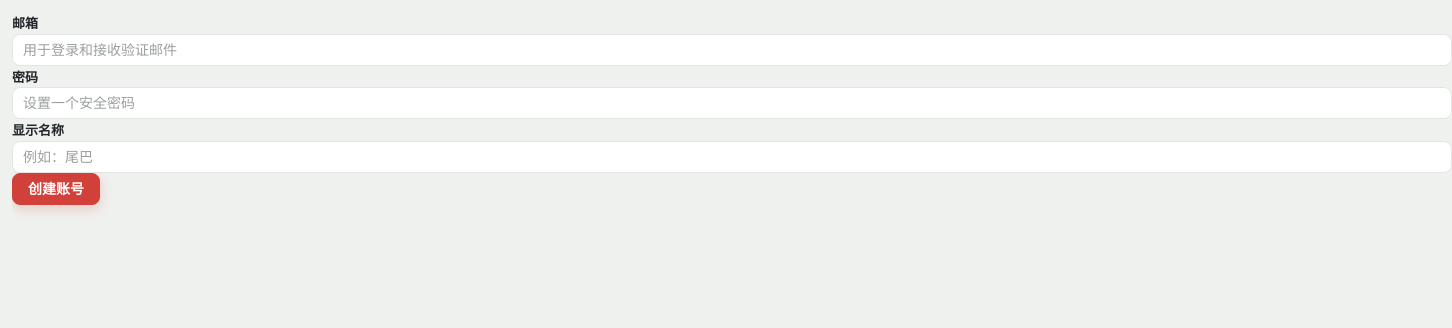
Test: RegisterForm › shows email field errors returned by the server
Type "invalid" into the field named "email" at (732, 50), box [23, 35, 1441, 65]
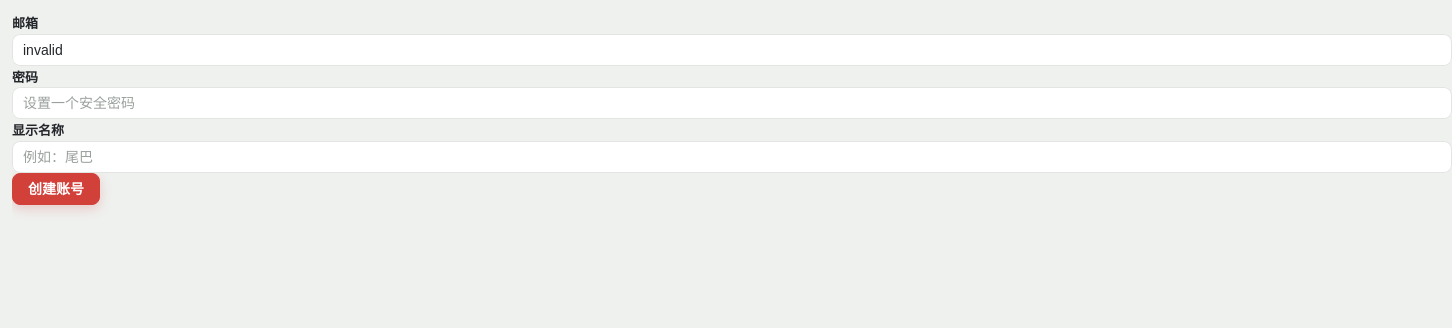
Type "Password123" into the password field named "password" at (732, 103), box [23, 88, 1441, 118]
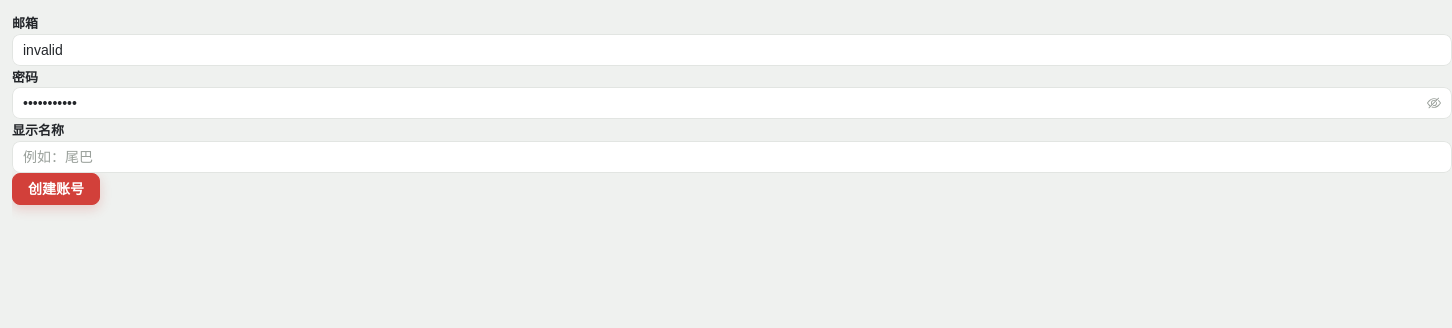
Type "Candidate" into the field named "displayName" at (732, 157), box [23, 142, 1441, 172]
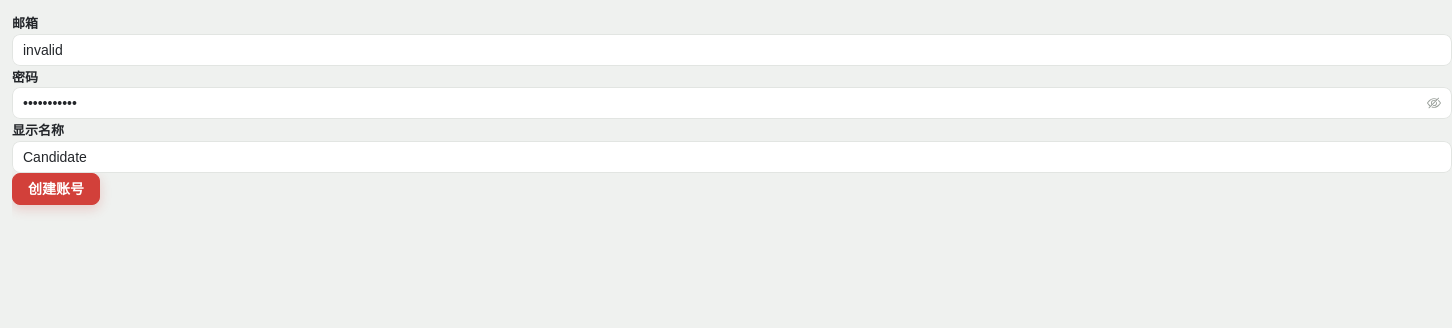
Submit the form, box [12, 12, 1451, 205]
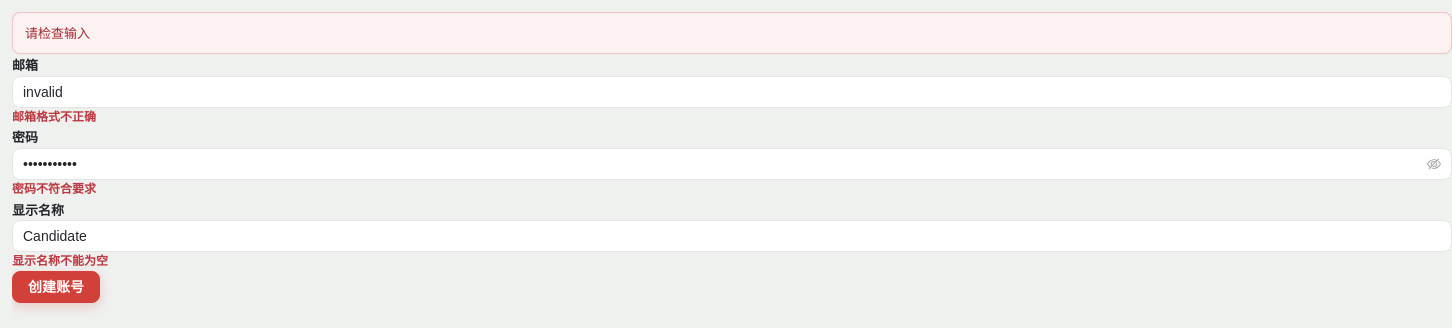
Expected: the message "邮箱格式不正确" is shown, [12, 109, 96, 124]
Expected: the message "密码不符合要求" is shown, [12, 181, 96, 196]
Expected: the message "显示名称不能为空" is shown, [12, 253, 108, 268]
